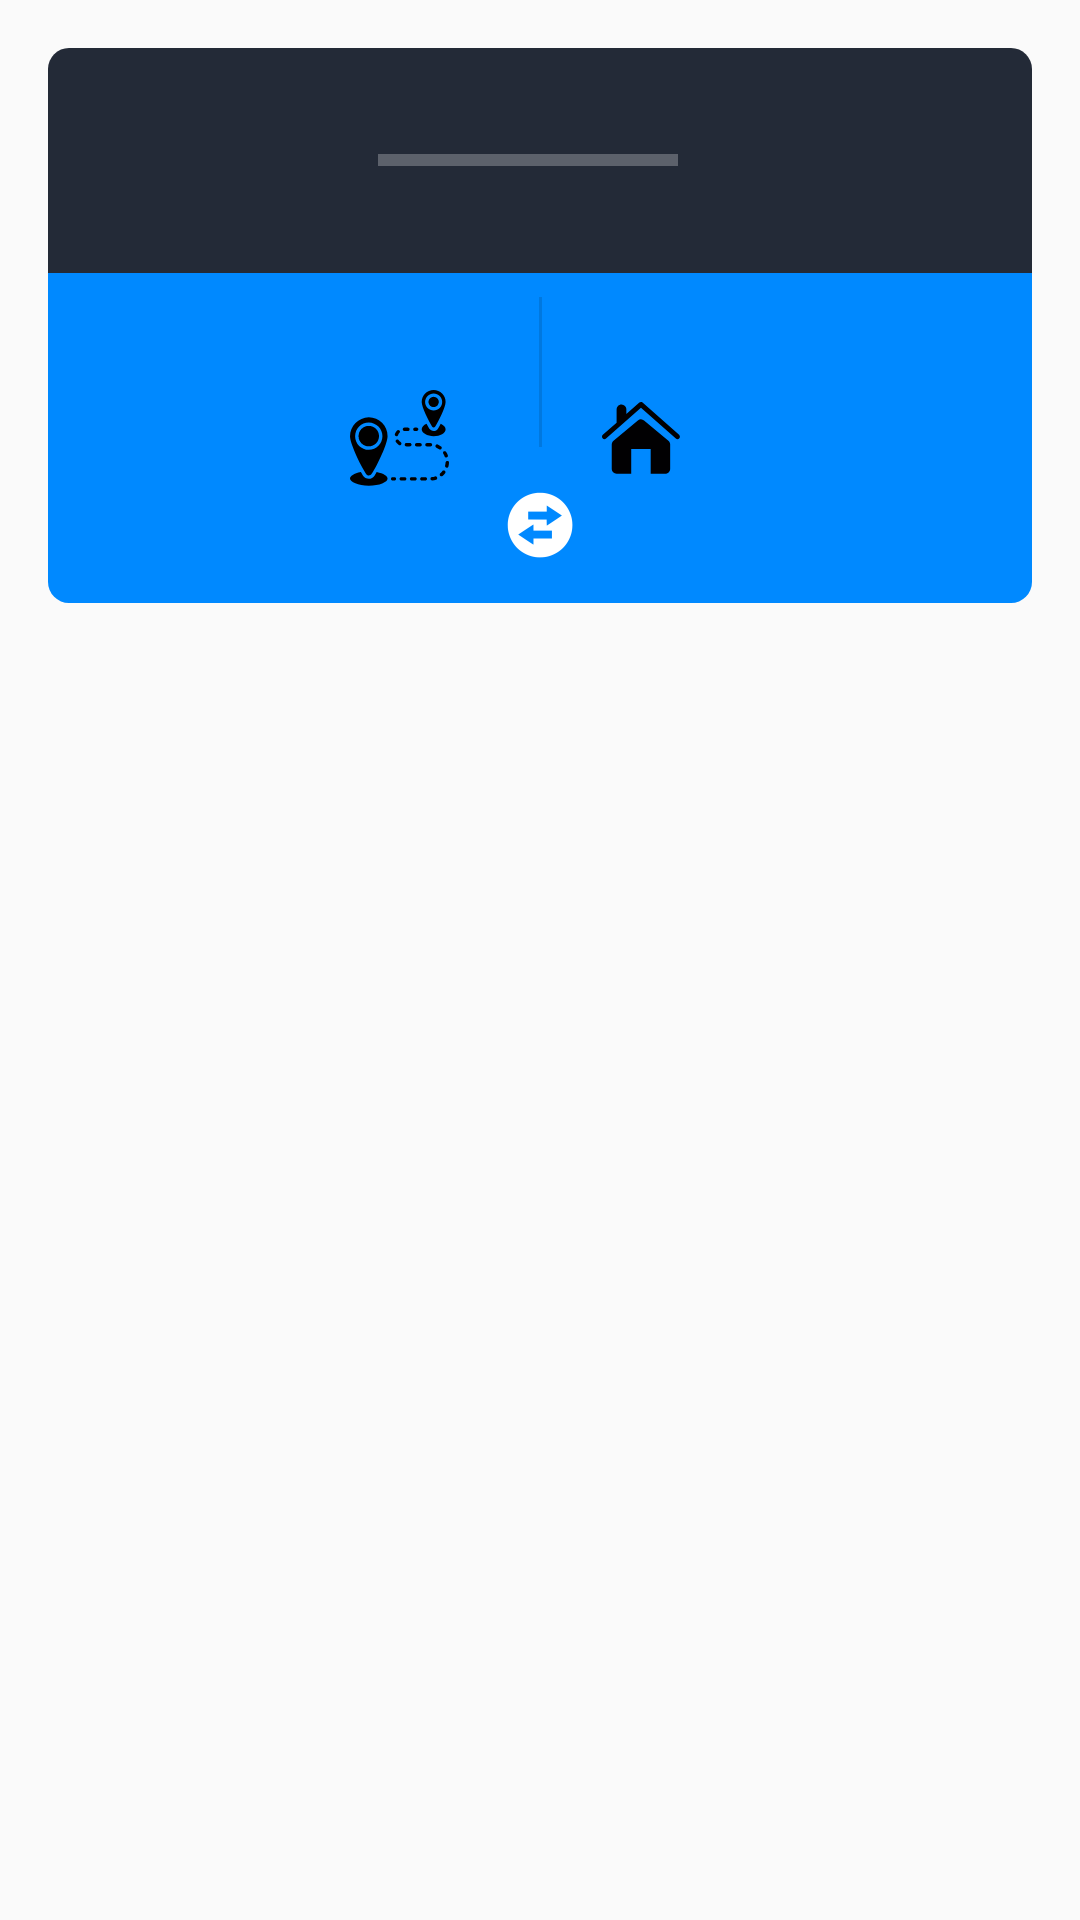

Named icons in this screenshot (1080px×1920px) and their centers, point (x, y):
casas: point (641, 438)
ruas: point (399, 438)
